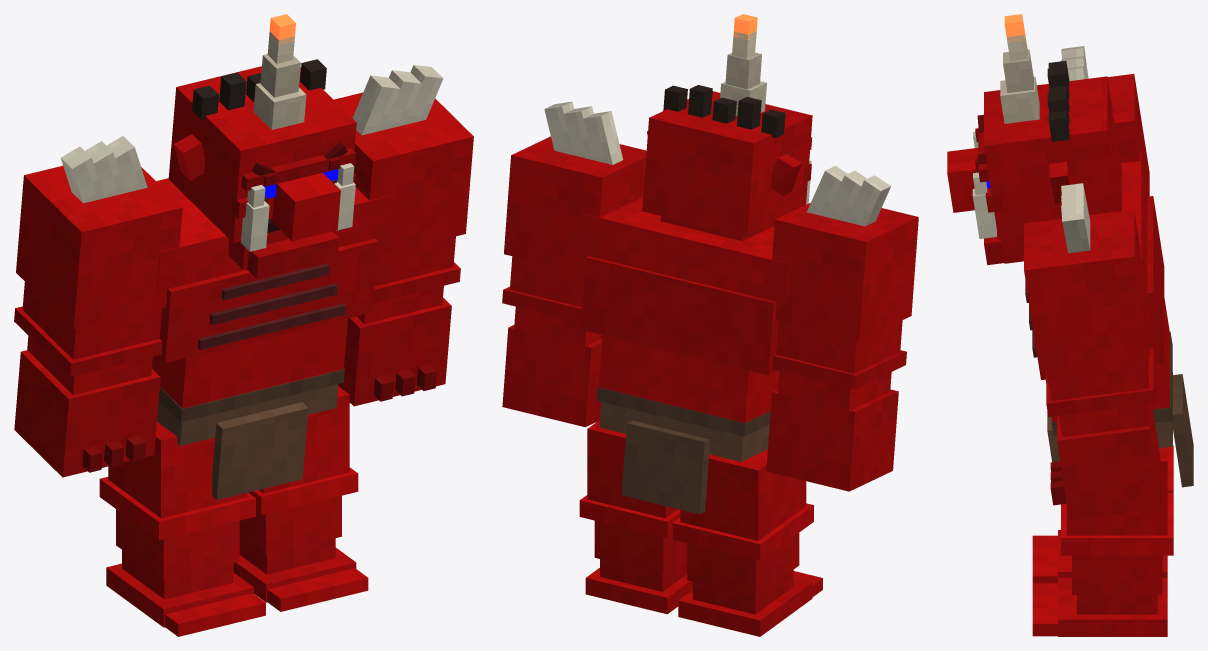
The model's file is ogre_s0_evo2.glb.
The picture shows the model from 3 angles, left to right: view 1: azimuth 30°, elevation 25°; view 2: azimuth 150°, elevation 25°; view 3: azimuth 270°, elevation 25°; orthographic projection. The views are drawn at different scales.
Parts seen in each view (by area): view 1: ArmR, Torso, Head, ArmL, LegR, LegL; view 2: Torso, ArmR, ArmL, Head, LegR, LegL; view 3: ArmL, Head, LegL, Torso, ArmR, LegR.
Boxes of the visible parts, box(x1,y1,x2,y2) form: ArmR: box(14, 136, 182, 477); Torso: box(152, 178, 389, 499); Head: box(168, 14, 356, 278); ArmL: box(334, 65, 473, 406); LegR: box(99, 422, 265, 636); LegL: box(233, 386, 368, 611); Torso: box(579, 197, 789, 514); ArmR: box(766, 166, 918, 491); ArmL: box(502, 101, 646, 427); Head: box(642, 14, 812, 241); LegR: box(672, 449, 822, 636); LegL: box(579, 420, 692, 614); ArmL: box(1024, 183, 1161, 519); Head: box(947, 14, 1121, 265); LegL: box(1032, 447, 1173, 636); Torso: box(1025, 151, 1193, 501); ArmR: box(1061, 46, 1149, 196); LegR: box(1032, 445, 1173, 583).
Size of the model in its own units: 1.46 by 2.13 by 0.8306.
Materials: 28 (28 with a texture image).
